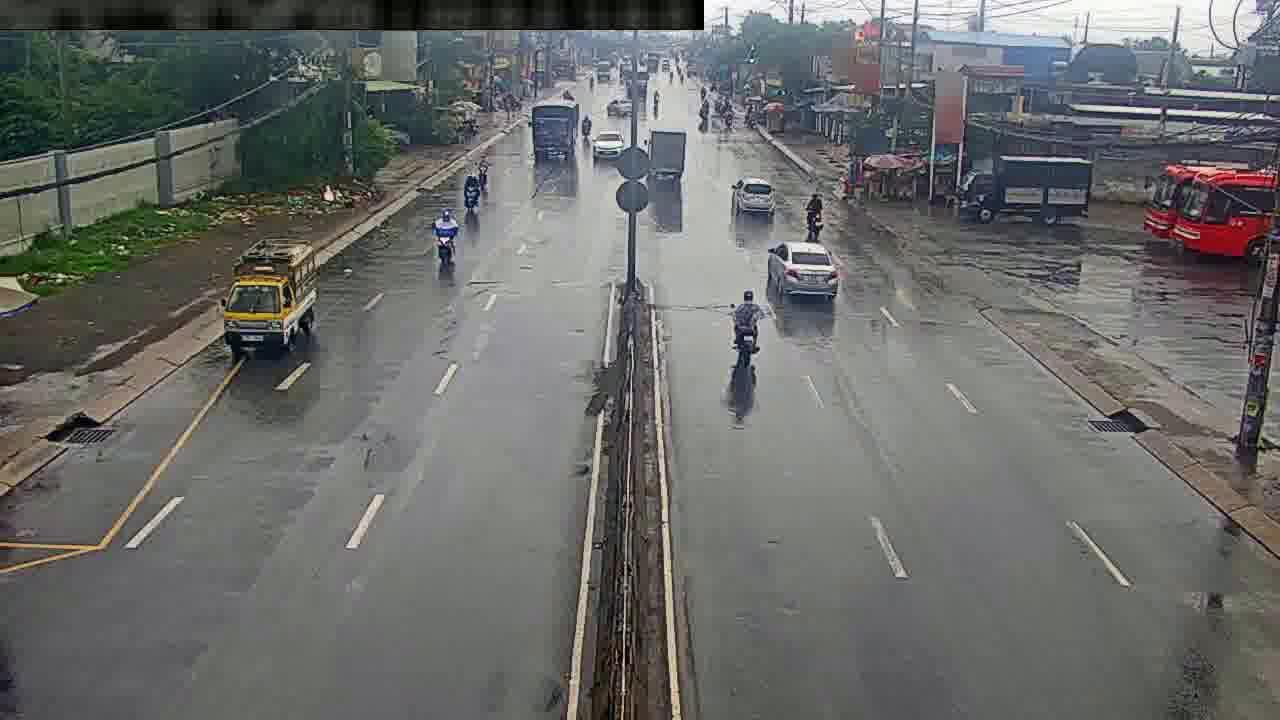8: (229, 256, 299, 349), (533, 104, 576, 161), (645, 125, 686, 181)
container: (769, 240, 836, 308), (733, 173, 773, 217), (593, 131, 623, 160)
motorbike: (732, 295, 761, 369), (434, 205, 459, 265), (803, 188, 826, 239), (465, 171, 479, 210)
